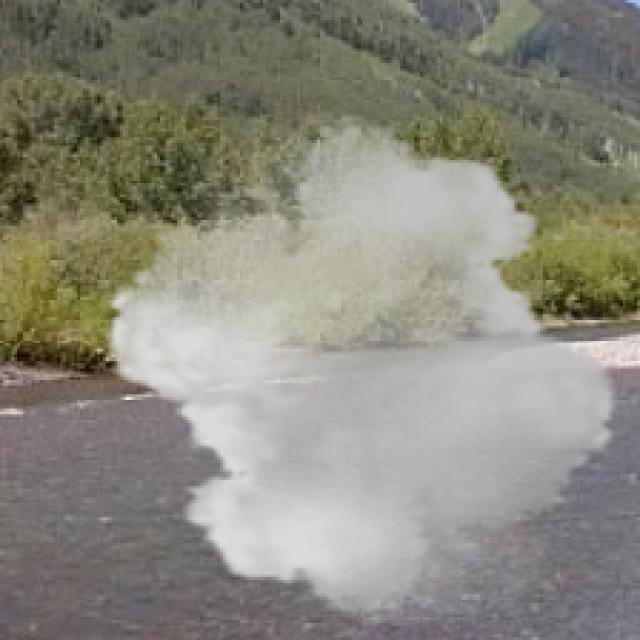smoke: (86, 111, 637, 626)
